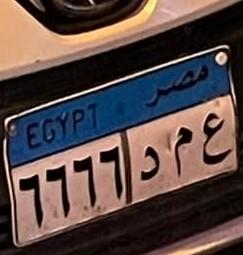6: (16, 174, 45, 234), (44, 163, 72, 218), (98, 140, 122, 203), (70, 158, 98, 205)
ain: (196, 113, 232, 167)
daal: (134, 143, 161, 189)
meem: (164, 125, 194, 175)
